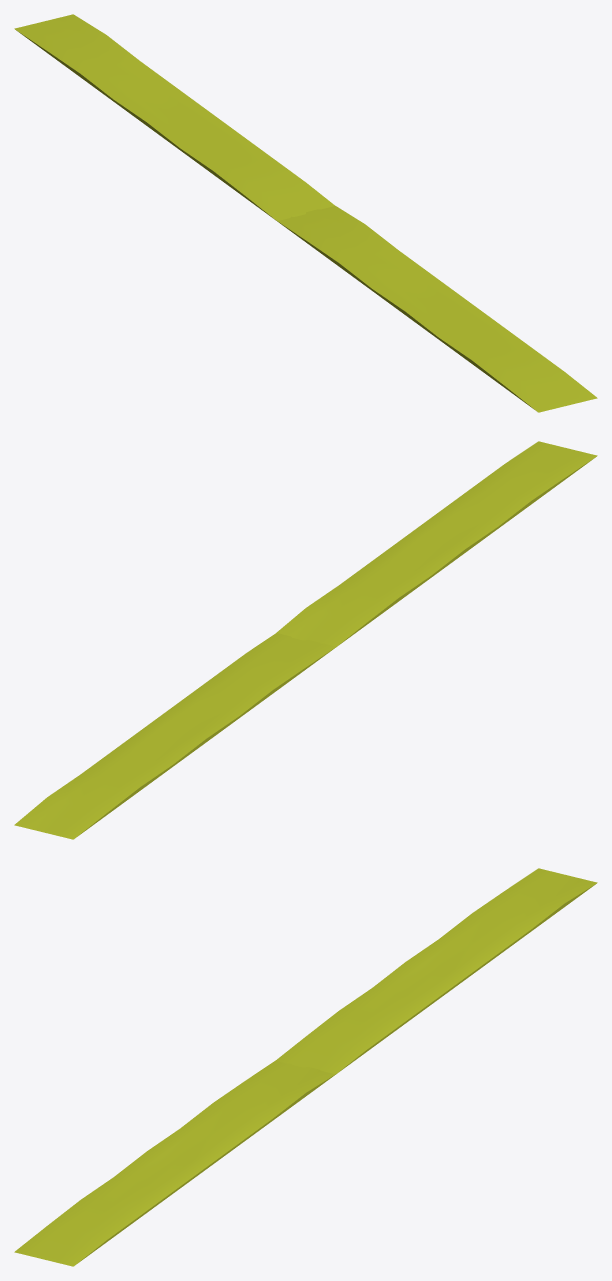
The model's file is Asset_YellowSafety.fbx.
3 renders of one model, top to bottom at view 1: azimuth 30°, elevation 25°; view 2: azimuth 150°, elevation 25°; view 3: azimuth 330°, elevation 25°, orthographic.
Visible parts, largest first — view 1: pPlane86; view 2: pPlane86; view 3: pPlane86.
Boxes of the visible parts, x1,y1,x2,y2 form: pPlane86: [14, 14, 597, 412]; pPlane86: [14, 441, 597, 839]; pPlane86: [14, 868, 597, 1266].
Bounding box in the file's own units: 1.21 × 0.0704 × 18.51.
